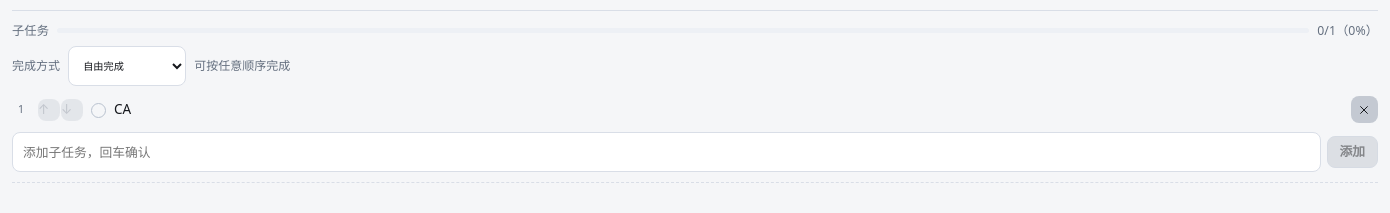
Test: 子任务双击标题仍可进入重命名
The width and height of the screenshot is (1390, 213).
Double-click the button with aria-label "重命名子任务「CA」".
double_click(123, 109)  # box x1=114 y1=99 x2=1343 y2=120
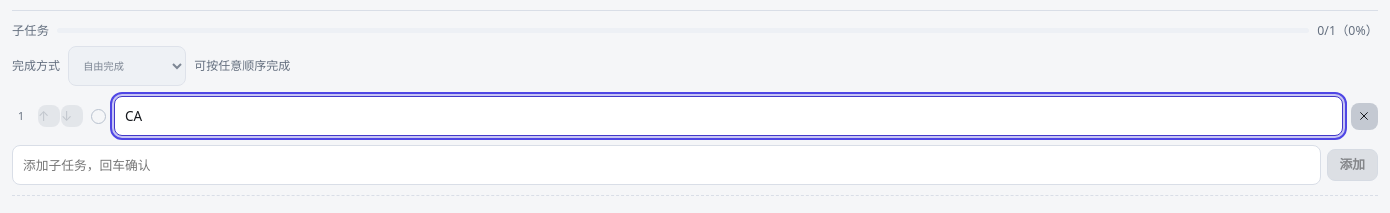
Check: the field named "子任务标题" holds "CA", box x1=114 y1=96 x2=1343 y2=136
